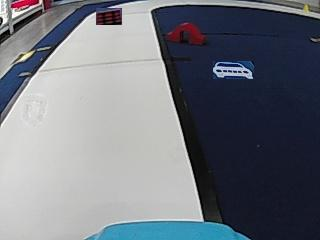bridge: (168, 20, 204, 44)
